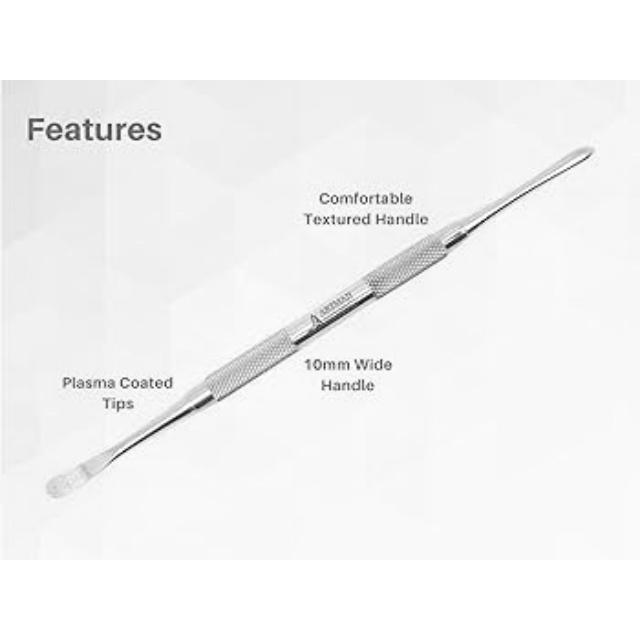elevador: (46, 148, 595, 501)
